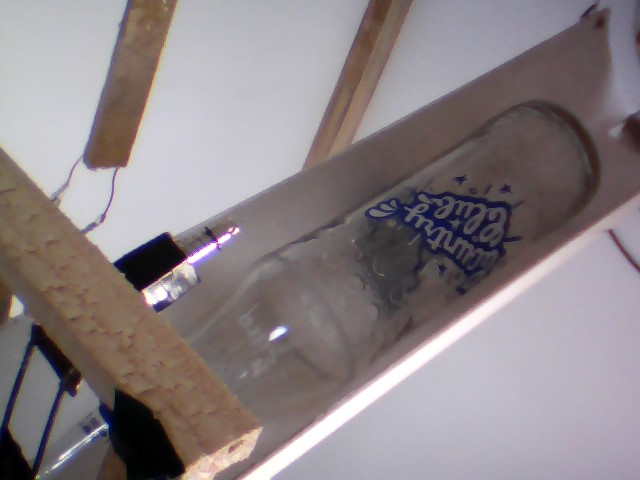vidrio: (183, 96, 604, 429)
